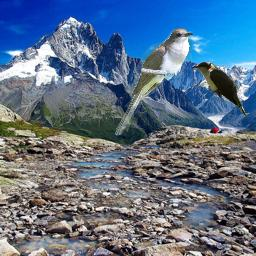Cuckoo: (114, 28, 193, 136), (190, 62, 246, 117)
